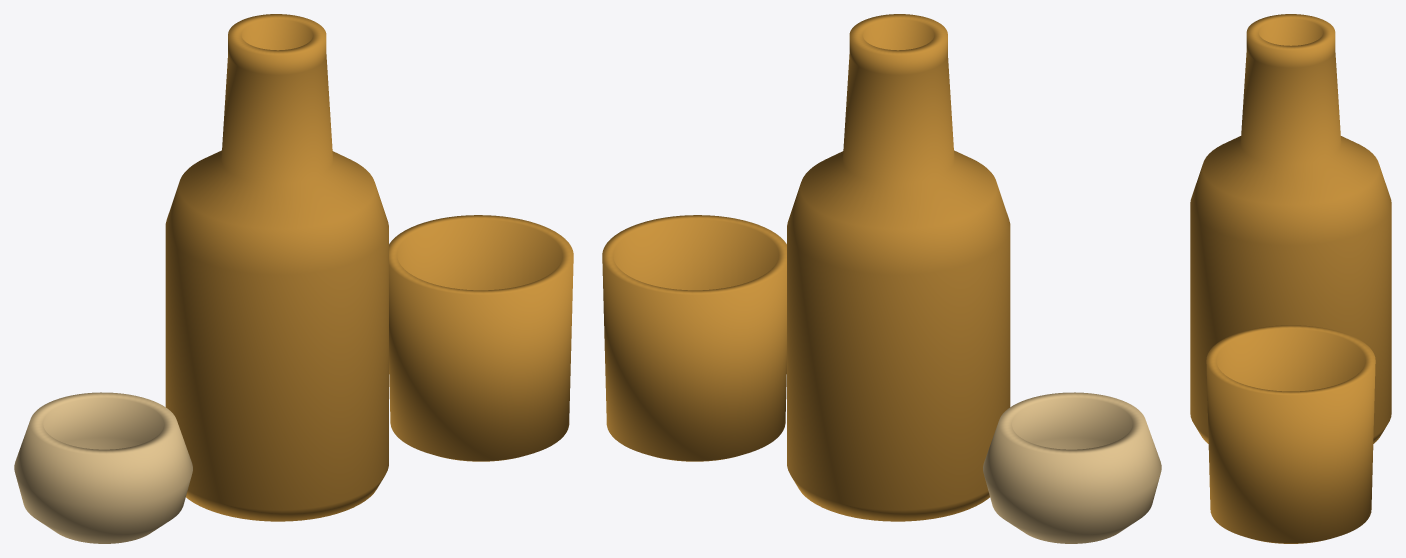
File: amber-glassware.glb
The picture shows the model from 3 angles, left to right: view 1: azimuth 30°, elevation 25°; view 2: azimuth 150°, elevation 25°; view 3: azimuth 270°, elevation 25°; orthographic projection. The views are drawn at different scales.
Visible parts, largest first — view 1: amber-glassware; view 2: amber-glassware; view 3: amber-glassware.
Boxes of the visible parts, x1,y1,x2,y2 form: amber-glassware: [14, 14, 573, 543]; amber-glassware: [602, 14, 1161, 543]; amber-glassware: [1190, 14, 1391, 543].
Size of the model in its own units: 0.3 by 0.2376 by 0.11.
